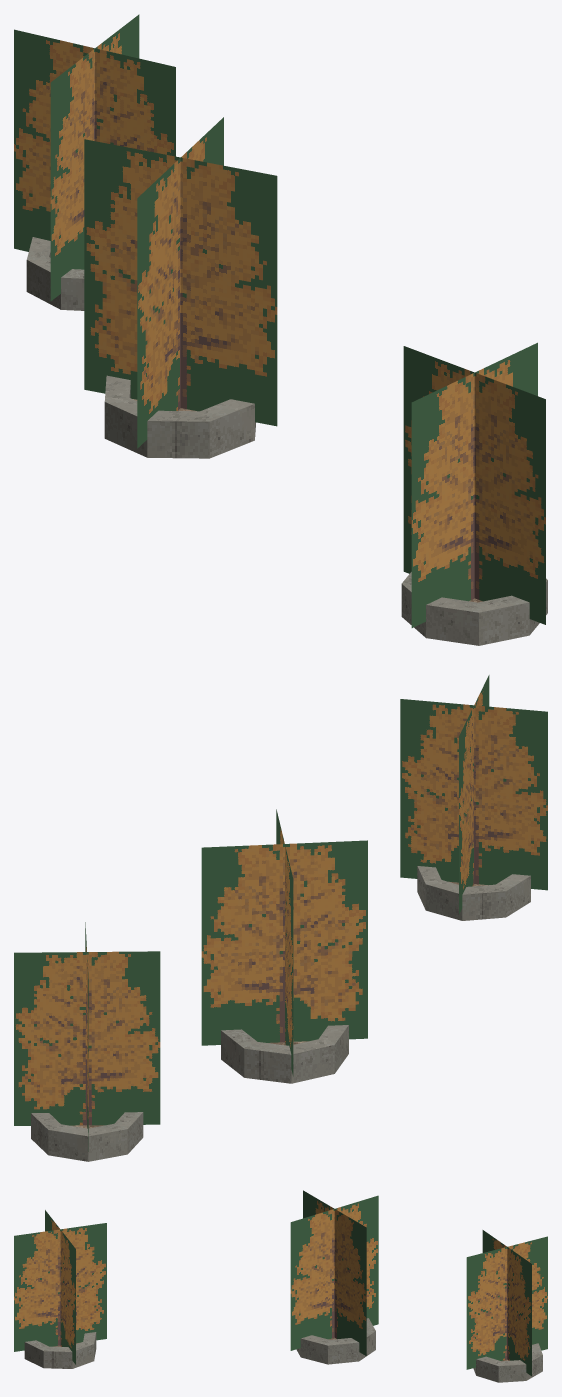
The model's file is procgen-procpain-tree-park-large-x0zm1.obj.
The picture shows the model from 3 angles, top to bottom: view 1: azimuth 30°, elevation 25°; view 2: azimuth 150°, elevation 25°; view 3: azimuth 270°, elevation 25°; orthographic projection. The views are drawn at different scales.
Size of the model in its own units: 6.73 by 7.69 by 26.93.
